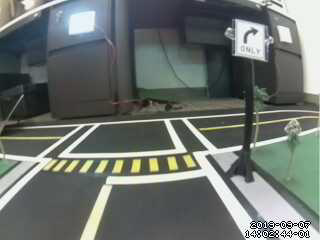Right_only_sign: (235, 19, 272, 65)
